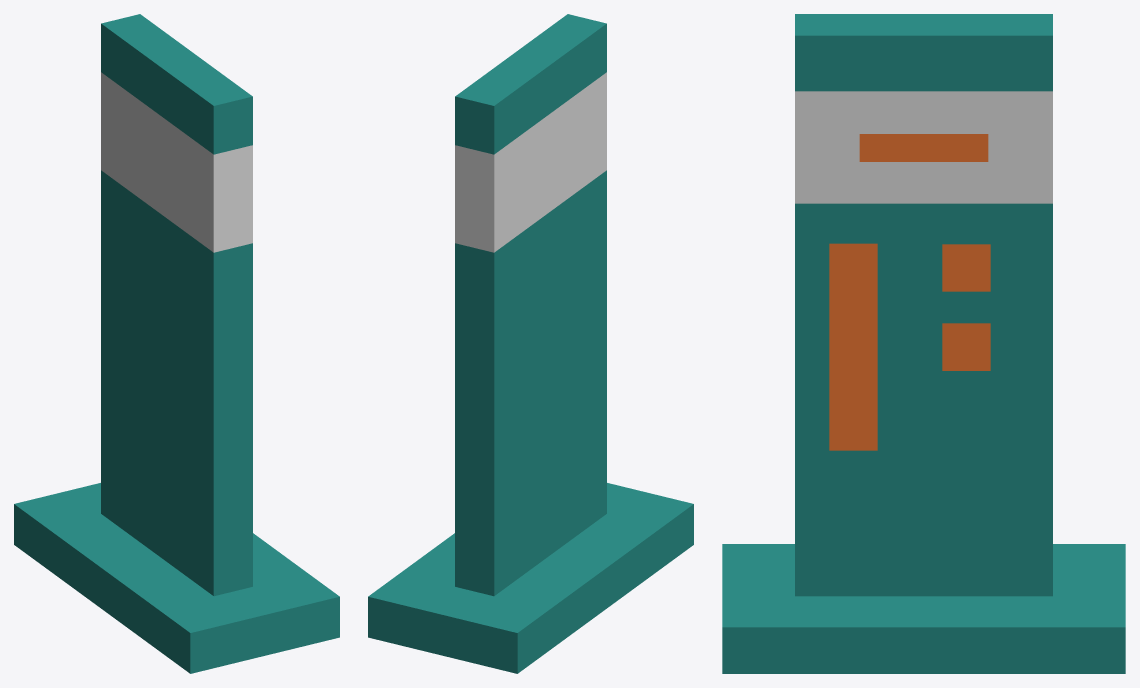
Rendered from Letter_box.FBX.
3 views of the same model, side by side, from view 1: azimuth 30°, elevation 25°; view 2: azimuth 150°, elevation 25°; view 3: azimuth 270°, elevation 25° (orthographic). The views are drawn at different scales.
Visible parts, largest first — view 1: Letter_box; view 2: Letter_box; view 3: Letter_box.
Part boxes in pixels (x1,y1,x2,y2): Letter_box: (14, 14, 339, 673); Letter_box: (368, 14, 693, 673); Letter_box: (722, 14, 1125, 673).
Bounding box in the file's own units: 7.66 × 26 × 15.66.
1 material, 1 textured.
